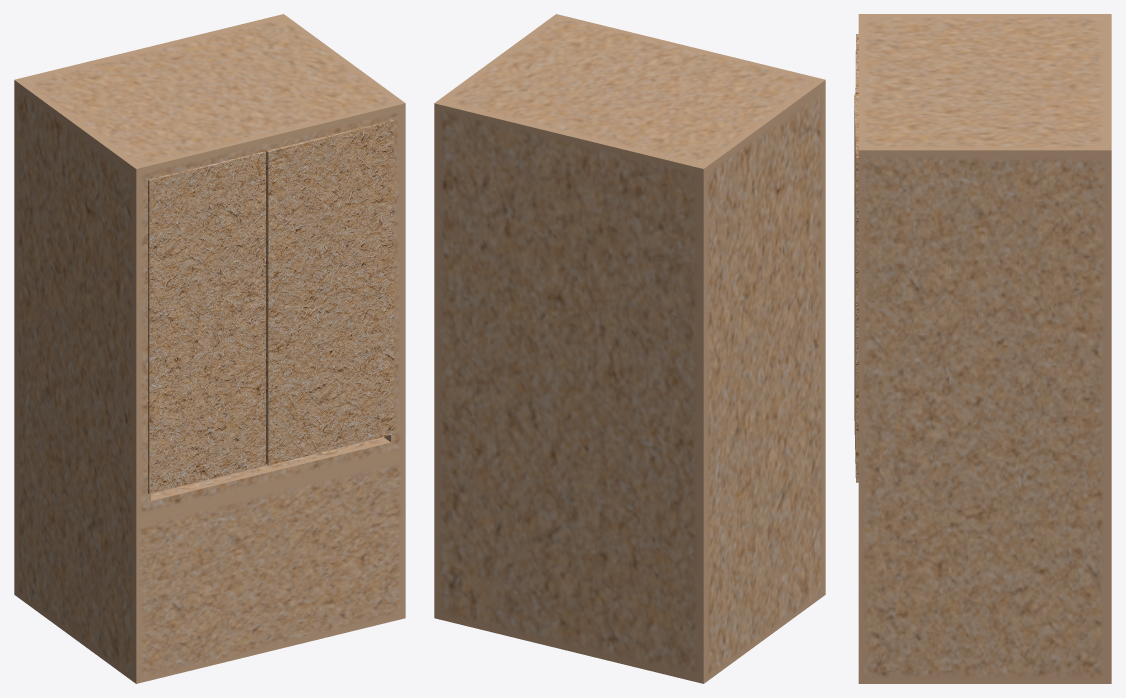
The model's file is JBayer_TwoDoorShelf.fbx.
The picture shows the model from 3 angles, left to right: view 1: azimuth 30°, elevation 25°; view 2: azimuth 150°, elevation 25°; view 3: azimuth 270°, elevation 25°; orthographic projection. The views are drawn at different scales.
Visible parts, largest first — view 1: Shelf, Door_Left, Door_Right; view 2: Shelf; view 3: Shelf, Door_Left.
Part boxes in pixels (x1,y1,x2,y2): Shelf: (14,14,405,683); Door_Left: (266,120,394,465); Door_Right: (148,151,265,493); Shelf: (434,14,825,683); Shelf: (858,14,1111,683); Door_Left: (854,94,858,482).
Bounding box in the file's own units: 156 × 357 × 196.
2 materials, 2 textured.
